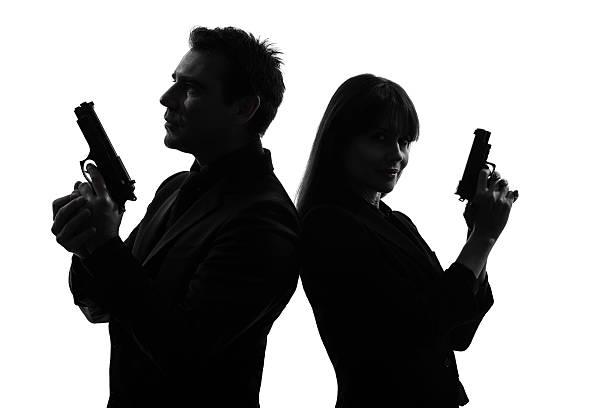weapon: (65, 98, 137, 222), (453, 119, 525, 211)
